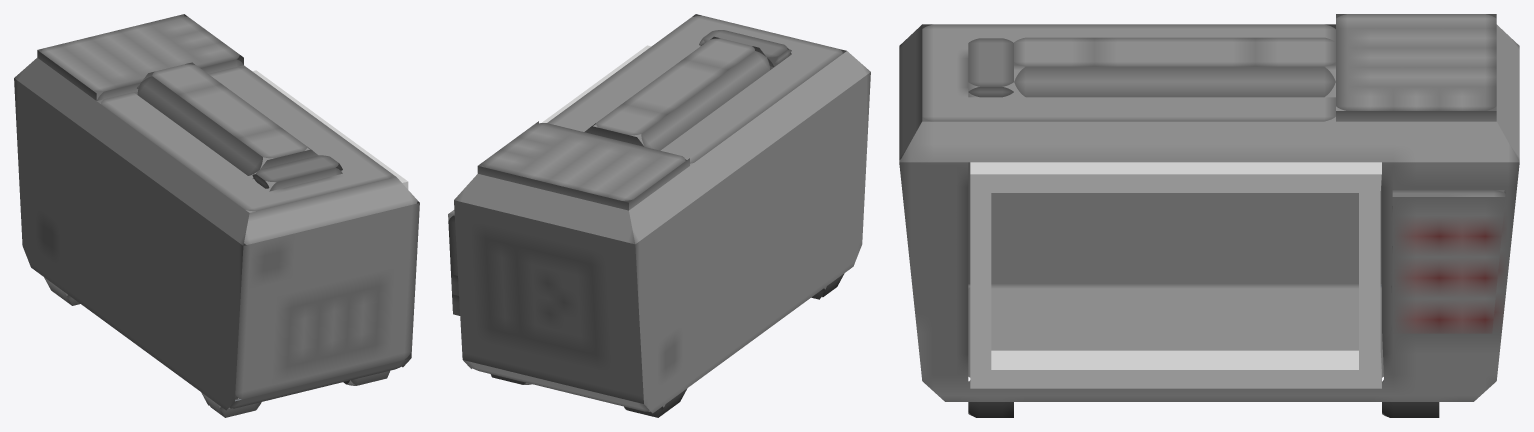
Rendered from micro.fbx.
3 renders of one model, left to right at view 1: azimuth 30°, elevation 25°; view 2: azimuth 150°, elevation 25°; view 3: azimuth 270°, elevation 25°, orthographic. The views are drawn at different scales.
Parts seen in each view (by area): view 1: base, cuboid; view 2: base, cuboid; view 3: base, cuboid.
Part boxes in pixels (x1,y1,x2,y2): base: (14, 14, 419, 417); cuboid: (252, 70, 408, 189); base: (448, 14, 870, 417); cuboid: (542, 45, 651, 122); base: (899, 14, 1519, 417); cuboid: (970, 162, 1381, 388).
Bounding box in the file's own units: 81.25 × 93.75 × 169.
Materials: 1 (1 with a texture image).
